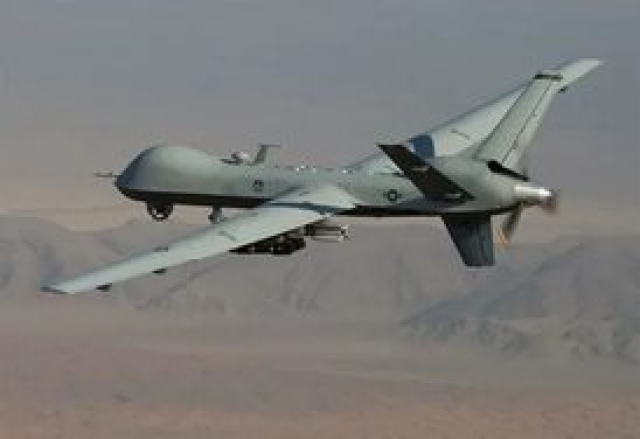military drone: (42, 56, 604, 295)
